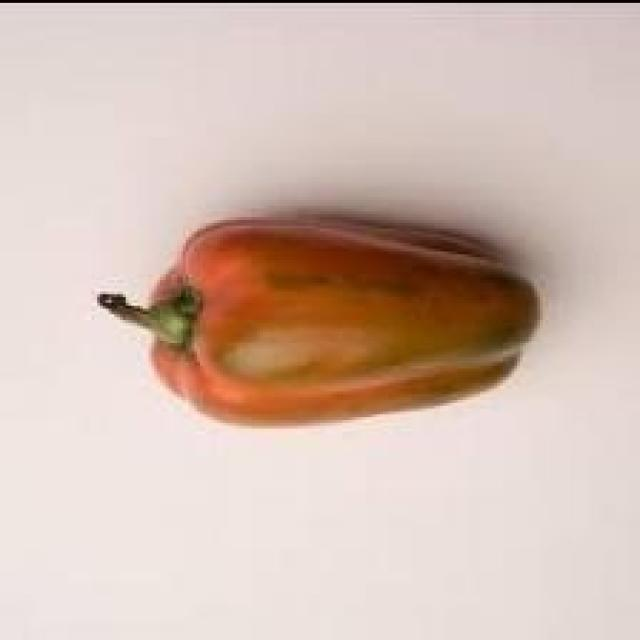Pepper: (97, 217, 540, 429)
